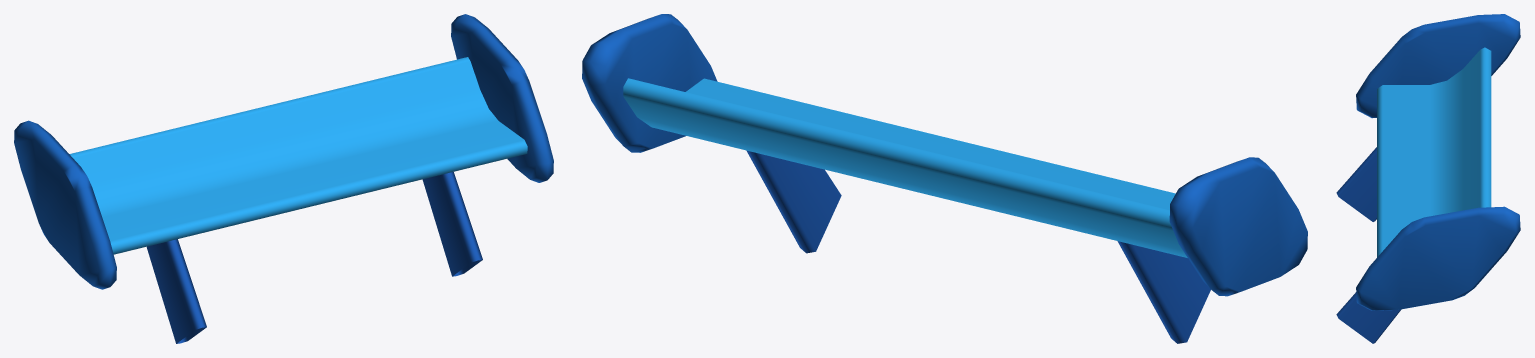
Rendered from Car_11_Spoiler.fbx.
3 renders of one model, left to right at view 1: azimuth 30°, elevation 25°; view 2: azimuth 150°, elevation 25°; view 3: azimuth 270°, elevation 25°, orthographic. The views are drawn at different scales.
Parts seen in each view (by area): view 1: Car_11_Spoiler; view 2: Car_11_Spoiler; view 3: Car_11_Spoiler.
Boxes of the visible parts, bbox=[...] form: Car_11_Spoiler: bbox=[14, 14, 553, 343]; Car_11_Spoiler: bbox=[582, 14, 1307, 343]; Car_11_Spoiler: bbox=[1336, 14, 1520, 343].
Bounding box in the file's own units: 168 × 65.17 × 67.01.
